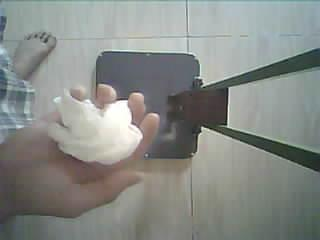paper: (49, 96, 142, 164)
